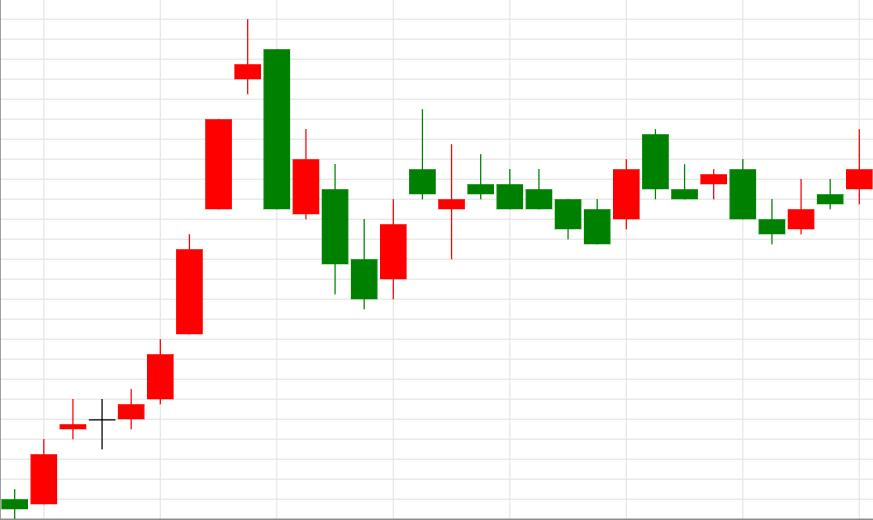evening_star_fall: (88, 20, 291, 449)
